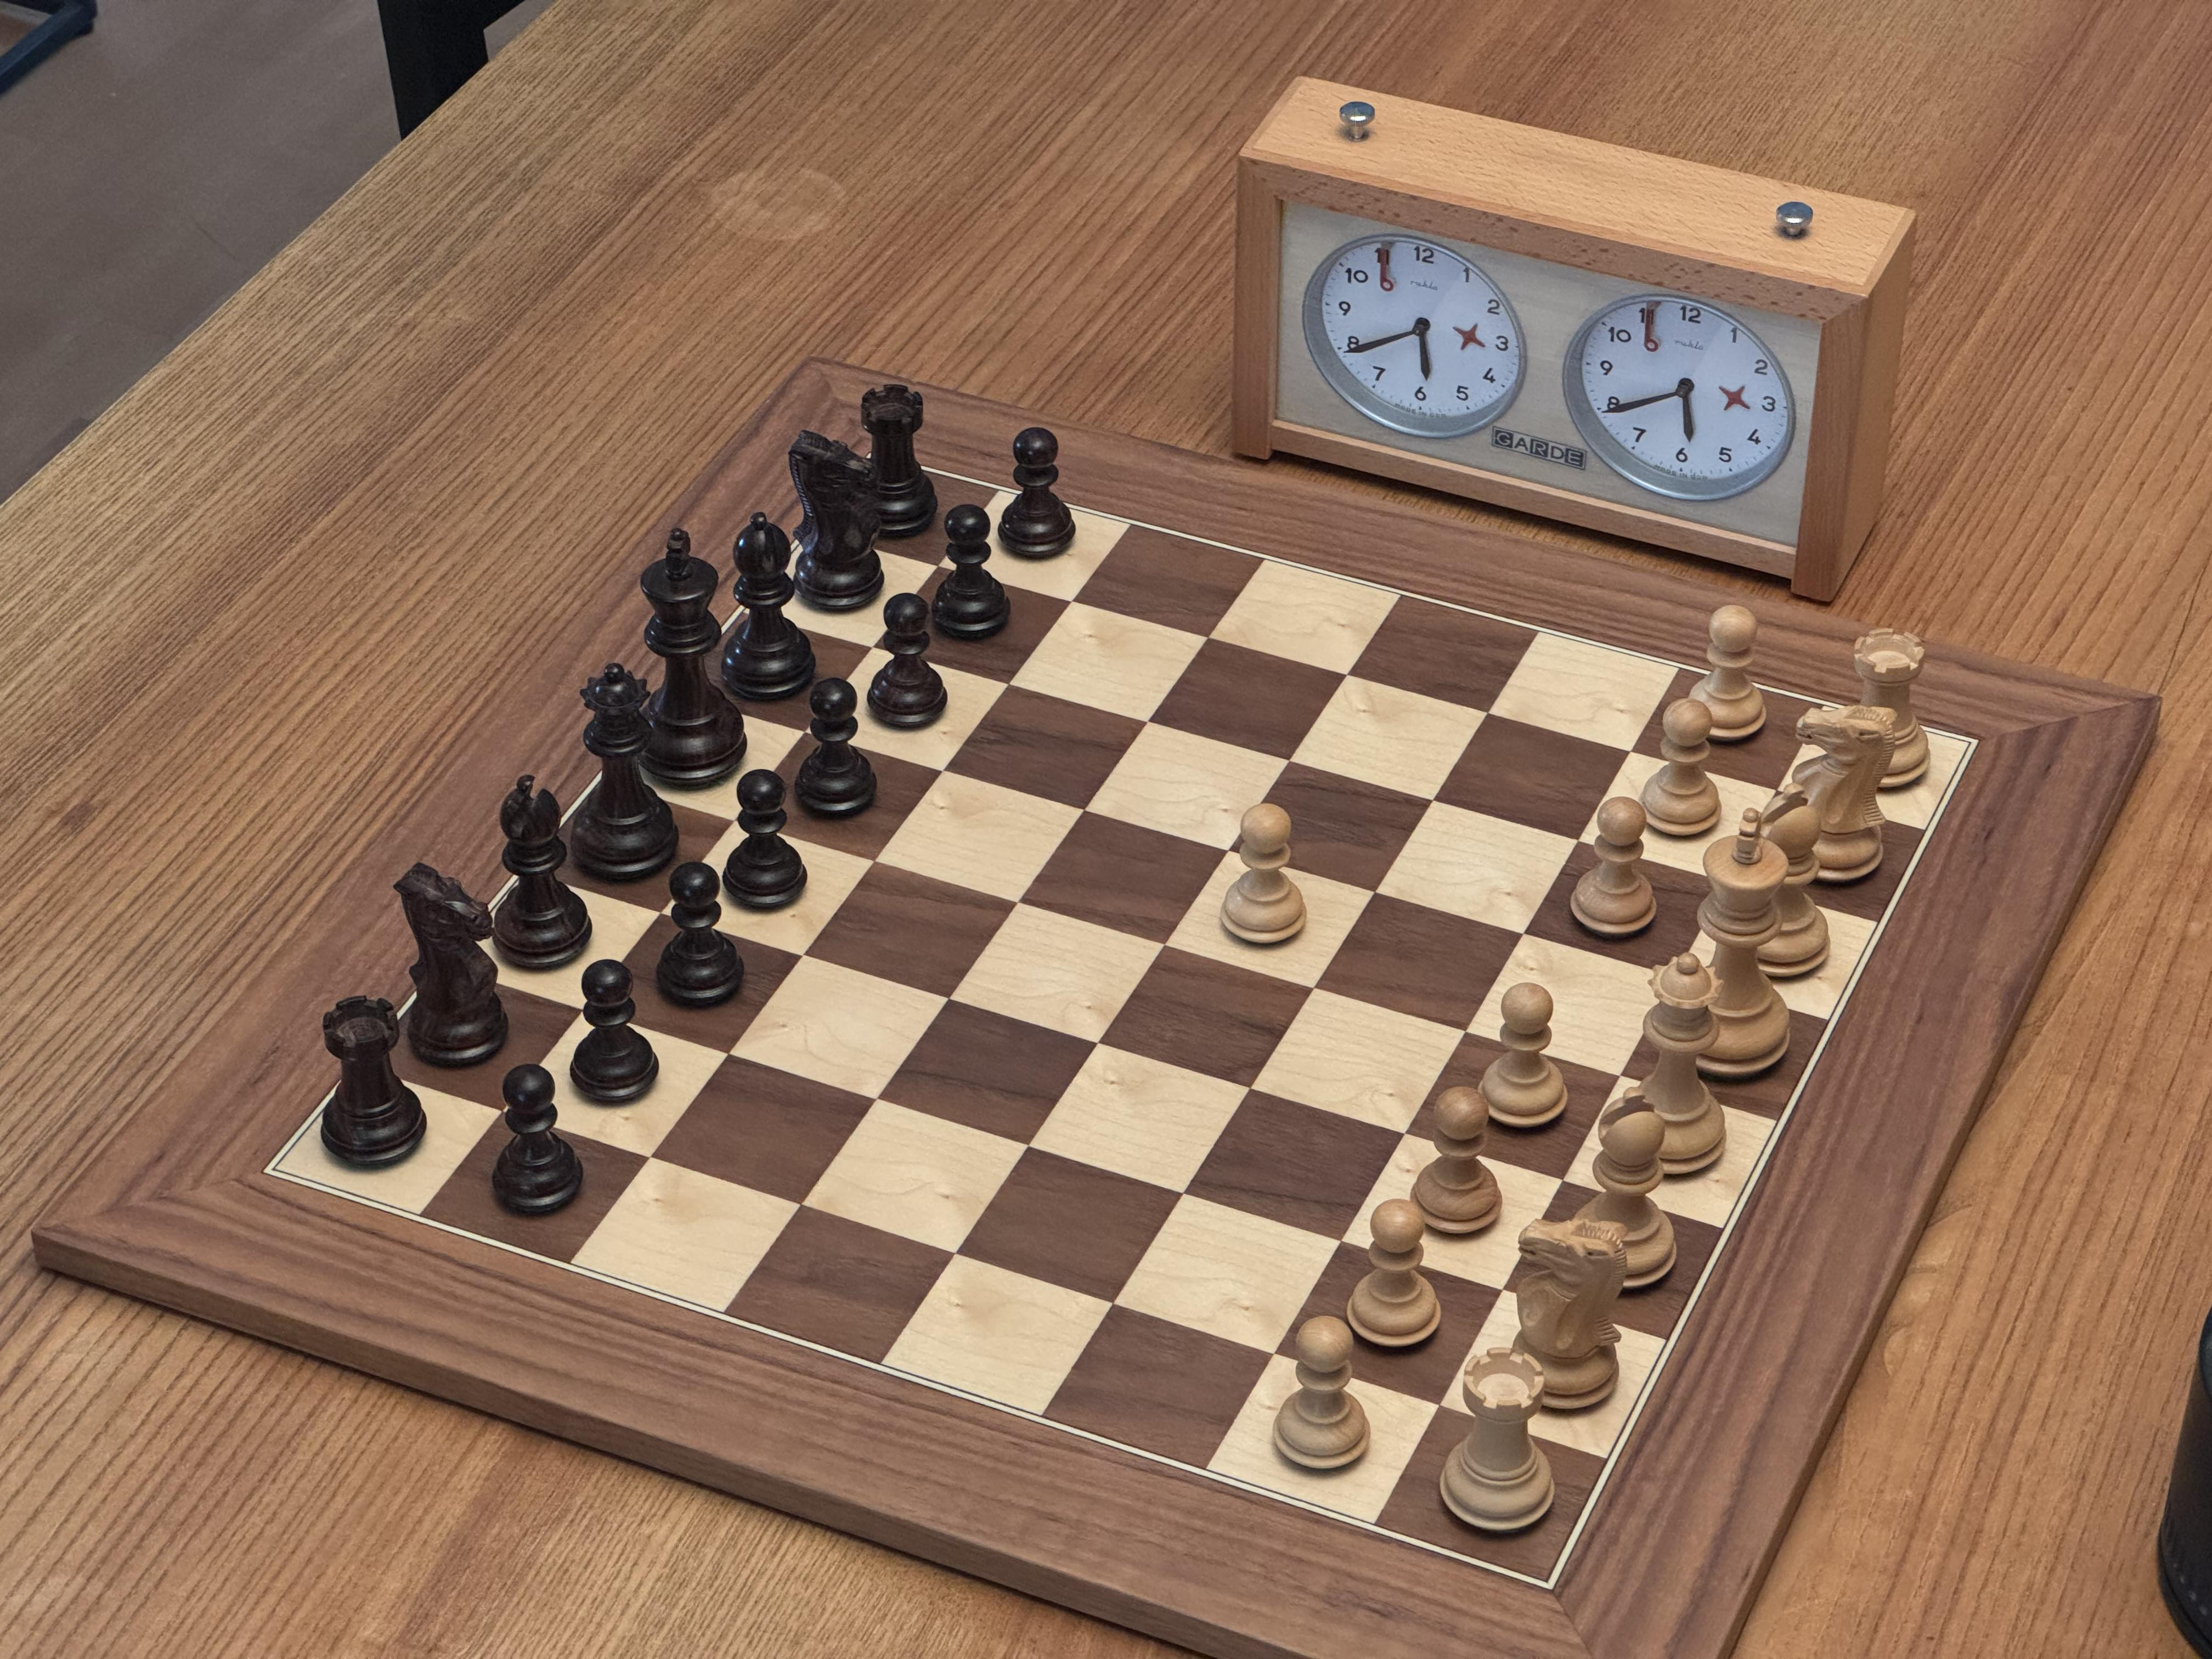Black Bishop: (482, 769, 594, 974), (714, 511, 819, 709)
Black King: (625, 523, 751, 793)
Black Knight: (388, 861, 510, 1073), (773, 427, 885, 617)
Black Pawn: (481, 1058, 587, 1220), (784, 673, 888, 831), (564, 957, 665, 1110), (651, 857, 747, 1016), (718, 765, 815, 917), (925, 498, 1014, 645), (995, 420, 1080, 566), (864, 589, 951, 732)
Black Queen: (563, 655, 685, 889)
Black Rook: (312, 988, 432, 1176), (841, 378, 941, 545)
White Bishop: (1550, 1079, 1688, 1297), (1730, 781, 1838, 986)
White King: (1658, 798, 1799, 1082)
White Knight: (1496, 1215, 1632, 1417), (1782, 694, 1904, 892)
White Pawn: (1266, 1304, 1376, 1481), (1339, 1192, 1446, 1354), (1404, 1080, 1507, 1243), (1470, 976, 1573, 1133), (1562, 793, 1663, 943), (1216, 800, 1315, 951), (1674, 603, 1771, 748), (1637, 697, 1724, 843)
White Queen: (1601, 948, 1731, 1185)
White Rook: (1430, 1335, 1561, 1541), (1829, 620, 1933, 798)
